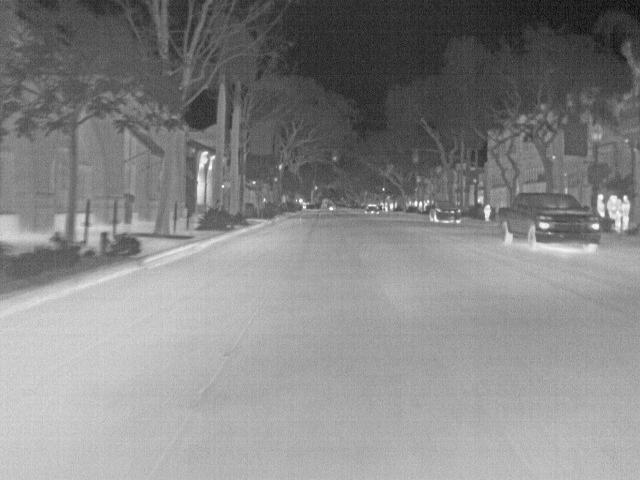car: (496, 192, 601, 252), (429, 200, 463, 224), (366, 204, 381, 216)
person: (620, 192, 633, 232), (608, 195, 620, 217), (597, 192, 606, 218), (484, 204, 493, 222)
